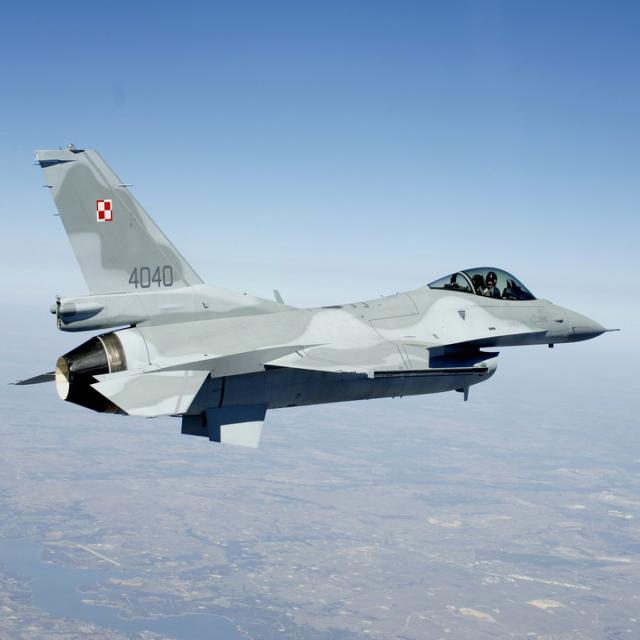MIL_Plane: (7, 143, 622, 450)
